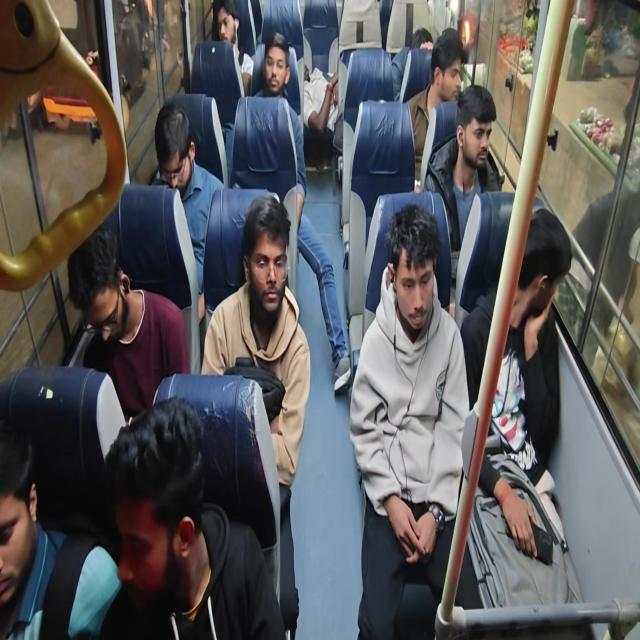person: (349, 202, 480, 638), (459, 206, 584, 608), (200, 194, 311, 637), (99, 395, 287, 639), (0, 1, 127, 293), (251, 31, 352, 394), (0, 419, 122, 639), (67, 227, 191, 422), (151, 102, 224, 318), (423, 84, 503, 252), (252, 31, 307, 229), (404, 28, 466, 191), (212, 0, 254, 97), (391, 27, 434, 101), (302, 60, 339, 134), (254, 32, 292, 99)
